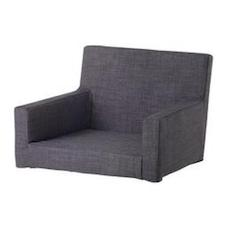chair: (8, 31, 213, 195)
